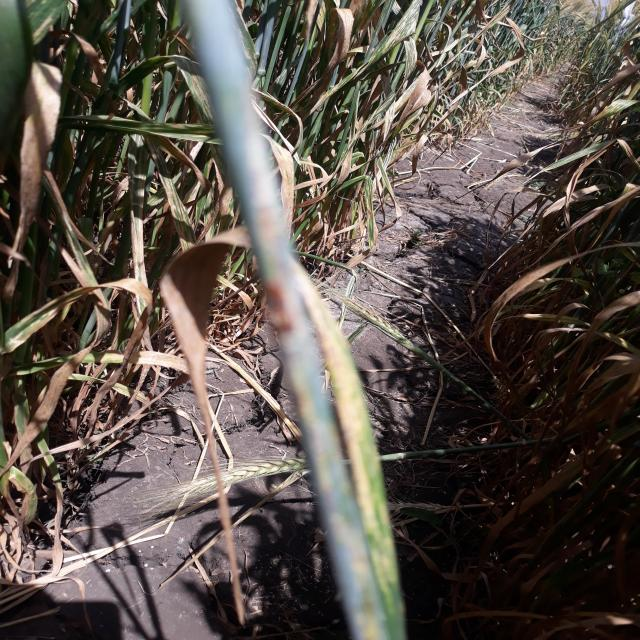black_stem_rust: (168, 25, 412, 566)
